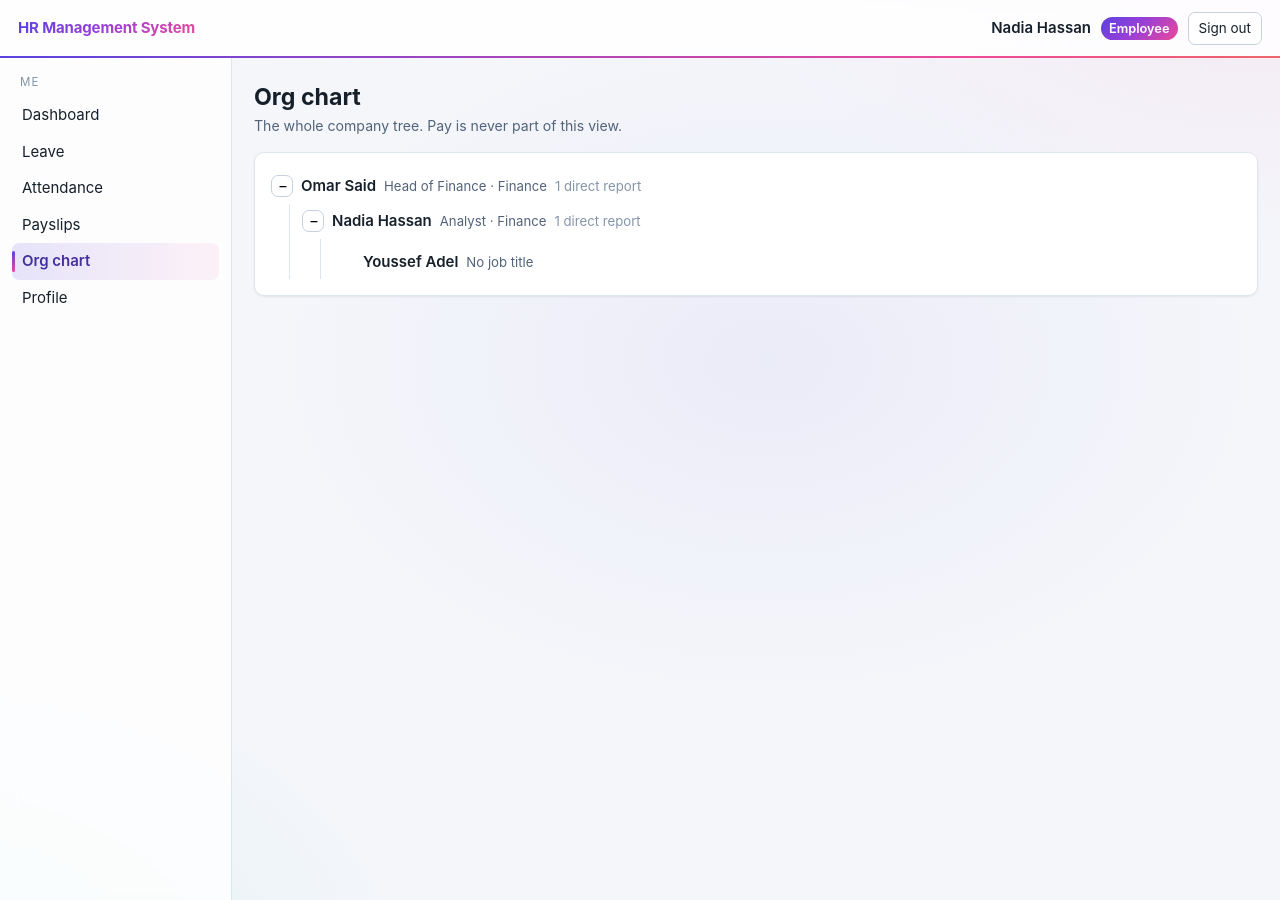
org chart › collapses a node, hiding its whole subtree
Click the button named "Collapse the reports of Omar Said" at (282, 186), box [271,175,293,197]
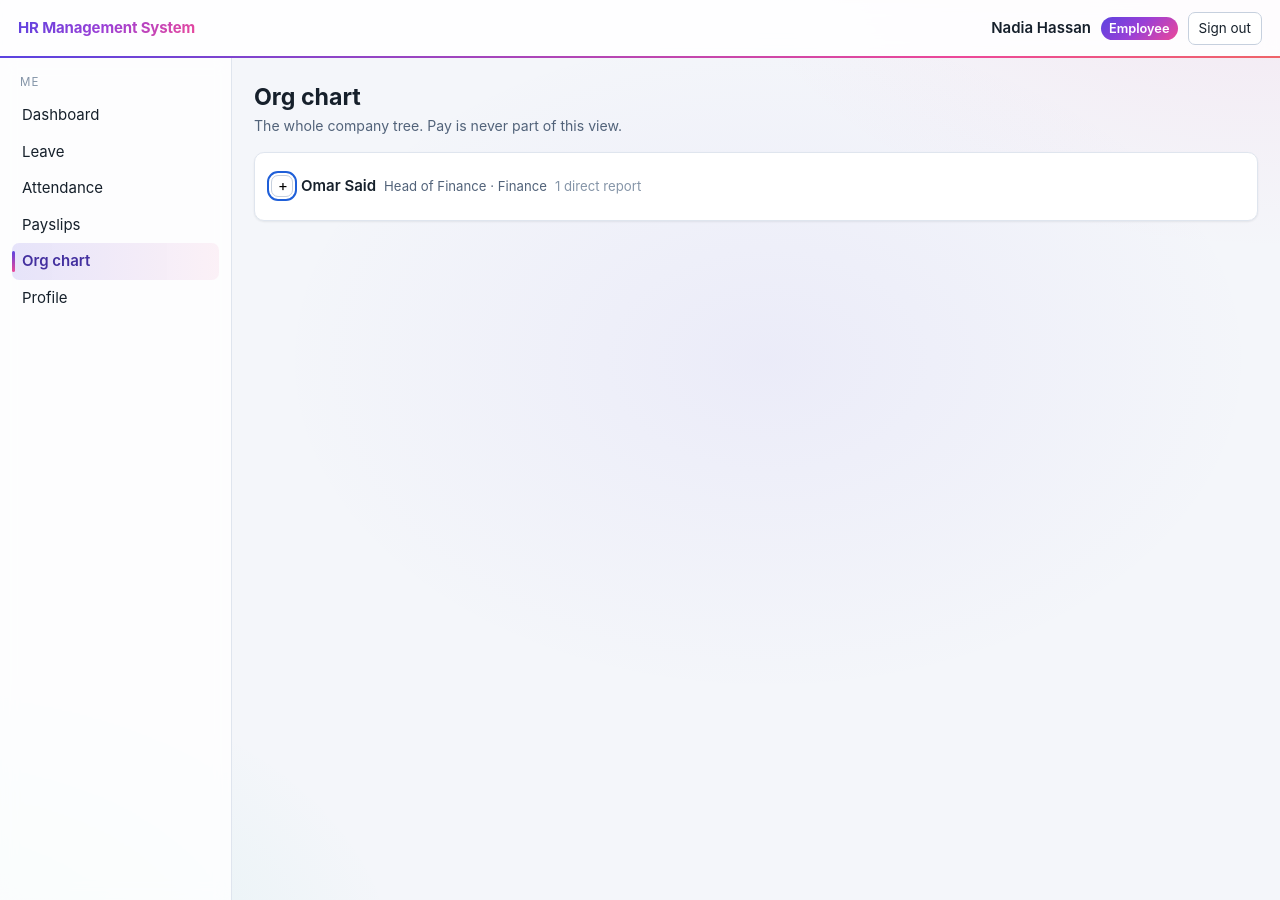
Check: the text "Omar Said" is shown, box [301,175,376,198]
Check: the text "Youssef Adel" is gone
Check: the button named "Expand the reports of Omar Said" is collapsed, box [271,175,293,197]
